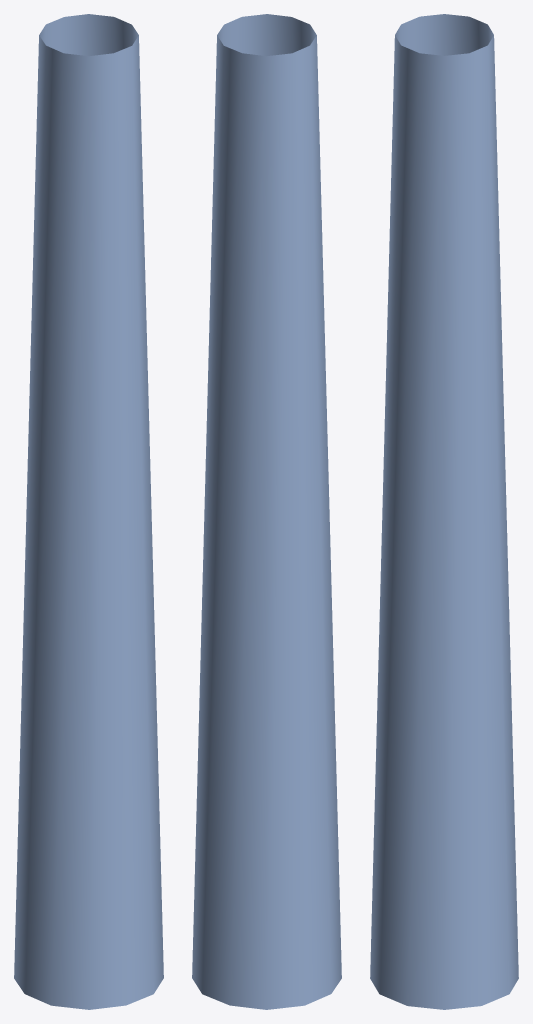
Rendered from smokestack01_large.fbx.
3 views of the same model, side by side, from view 1: azimuth 30°, elevation 25°; view 2: azimuth 150°, elevation 25°; view 3: azimuth 270°, elevation 25° (orthographic).
Parts seen in each view (by area): view 1: smokestack01_large_reference; view 2: smokestack01_large_reference; view 3: smokestack01_large_reference.
Boxes of the visible parts, <box> form: smokestack01_large_reference: <box>14,14,163,1009</box>; smokestack01_large_reference: <box>192,14,341,1009</box>; smokestack01_large_reference: <box>370,14,518,1009</box>.
Size of the model in its own units: 19200 by 134400 by 19200.
